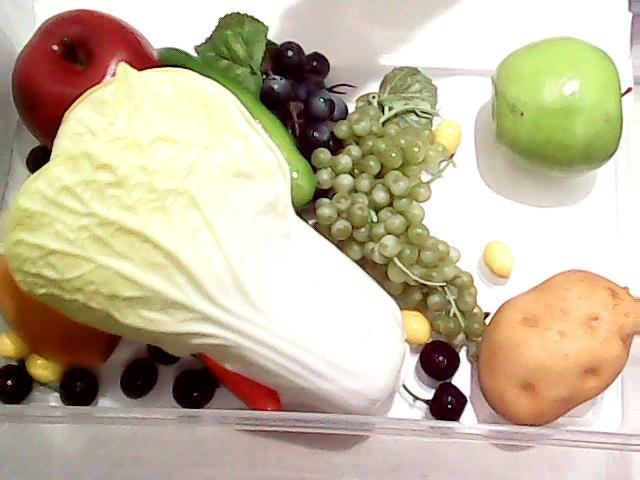apple: (5, 4, 167, 156), (489, 34, 633, 177)
carrot: (190, 340, 286, 412)
grape: (306, 101, 490, 362), (270, 44, 332, 156)
lemon: (0, 252, 124, 372)
napa cabbage: (4, 68, 426, 422), (0, 64, 412, 418)
pepper: (140, 33, 340, 207)
potato: (472, 270, 640, 426)
